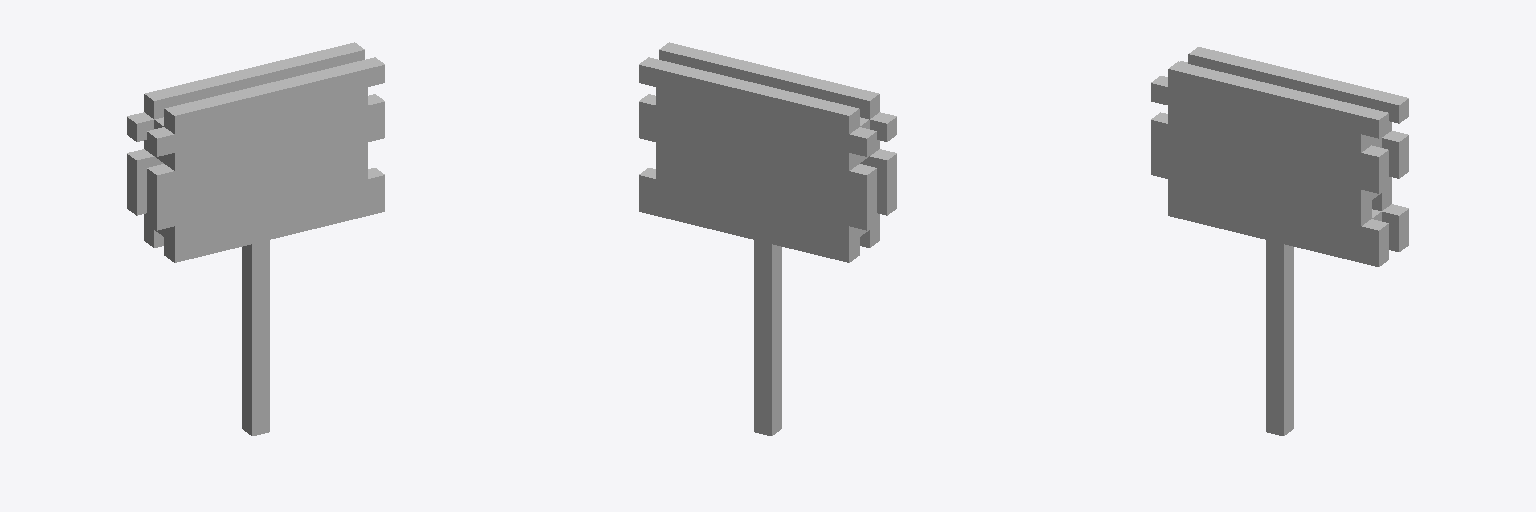
File: table.obj
3 views of the same model, side by side, from view 1: azimuth 30°, elevation 25°; view 2: azimuth 150°, elevation 25°; view 3: azimuth 330°, elevation 25° (orthographic).
Visible parts, largest first — view 1: object 1; view 2: object 1; view 3: object 1.
Boxes of the visible parts, x1,y1,x2,y2 form: object 1: [127, 42, 384, 435]; object 1: [639, 42, 896, 435]; object 1: [1151, 47, 1408, 435].
Bounding box in the file's own units: 1.3 × 1.9 × 0.3.